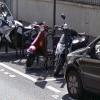Motorcycle: (24, 17, 70, 78)
